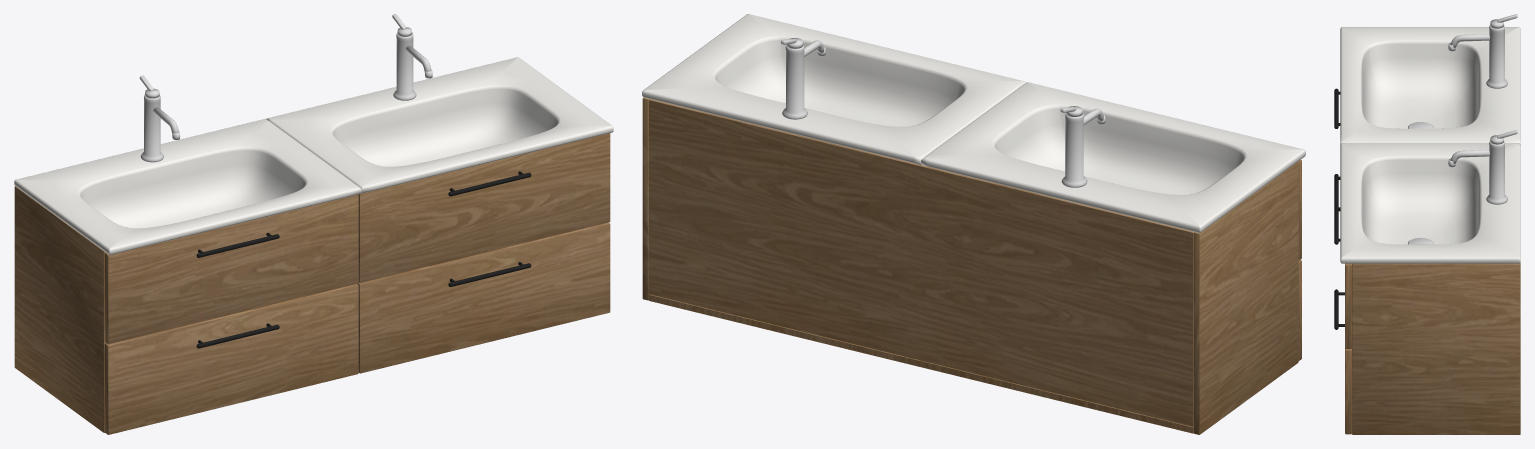
The model's file is mueble_lavabo_doble_140.glb.
The picture shows the model from 3 angles, left to right: view 1: azimuth 30°, elevation 25°; view 2: azimuth 150°, elevation 25°; view 3: azimuth 270°, elevation 25°; orthographic projection. The views are drawn at different scales.
Parts seen in each view (by area): view 1: mueble_lavabo_doble_140; view 2: mueble_lavabo_doble_140; view 3: mueble_lavabo_doble_140.
Boxes of the visible parts, box(x1,y1,x2,y2) form: mueble_lavabo_doble_140: box(14, 14, 613, 434); mueble_lavabo_doble_140: box(642, 14, 1305, 434); mueble_lavabo_doble_140: box(1334, 14, 1520, 434).
Size of the model in its own units: 1.4 by 0.6963 by 0.4755.
Materials: 4 (1 with a texture image).
